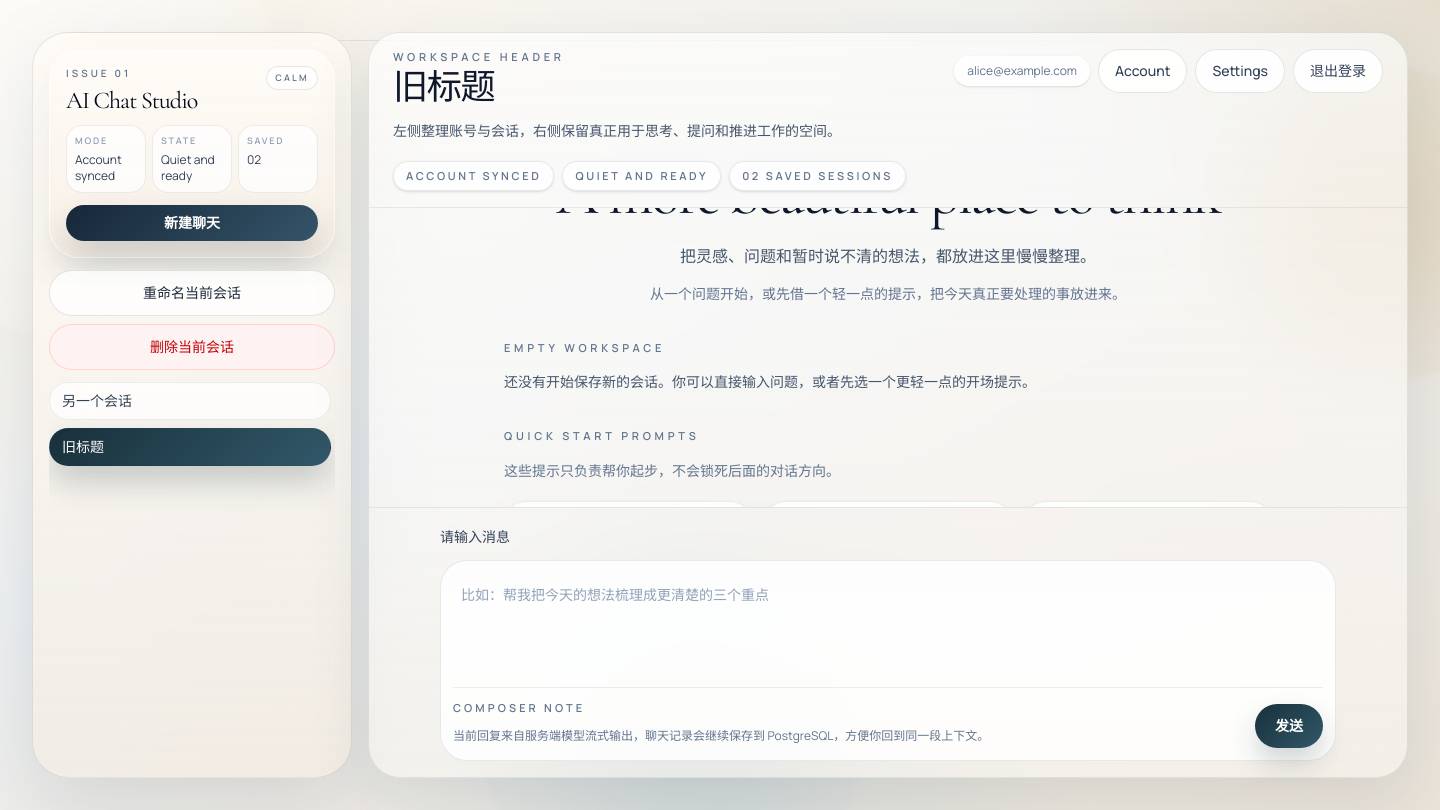
ChatApp › renames the active chat title and refreshes the sidebar list
Expected: the text "旧标题" is shown, 62,436 -> 104,456
Click the button "重命名当前会话". click: [192, 292]
box: 49,270 -> 335,316
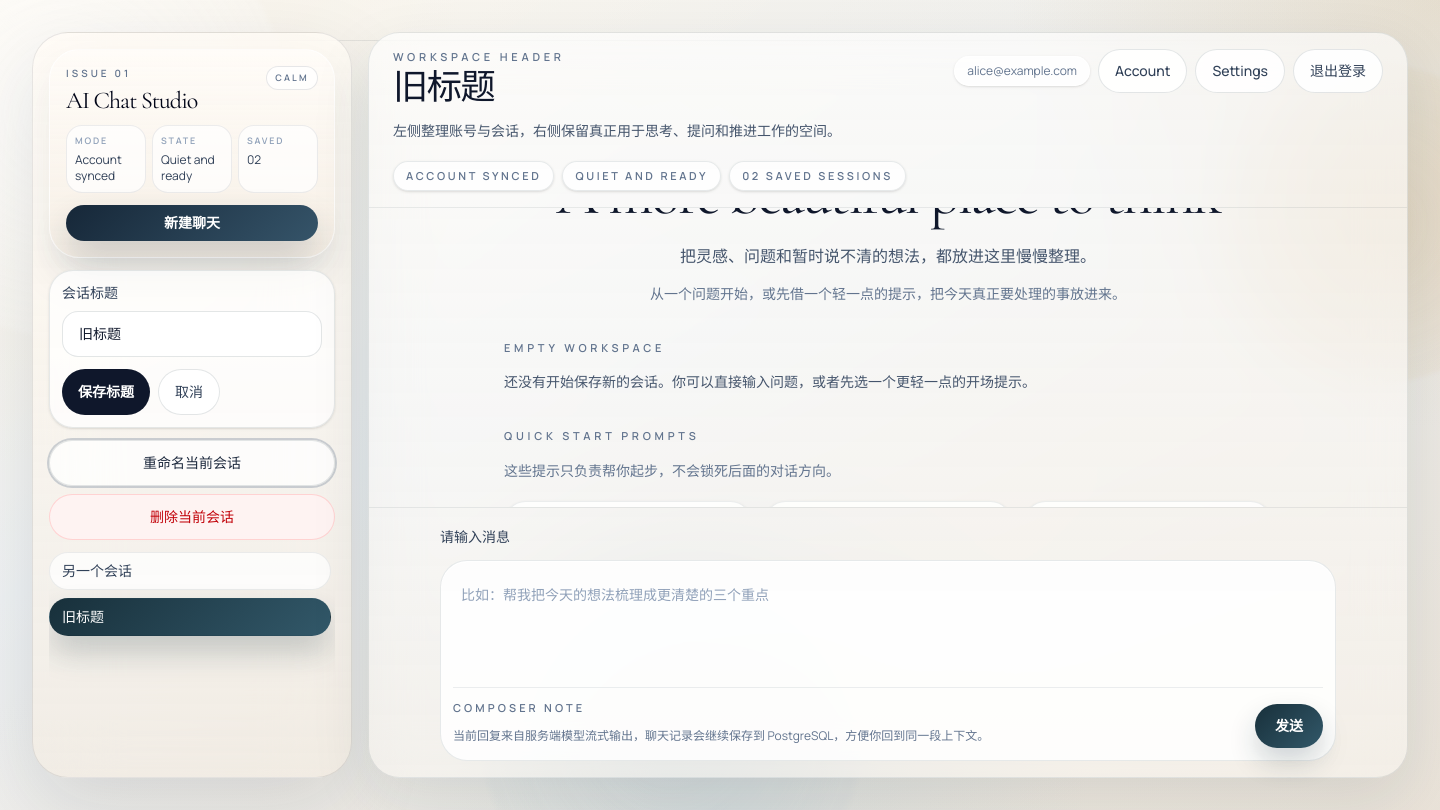
Replace the text in the field labelled "会话标题" with "新的标题". click: [192, 334]
box: 62,310 -> 322,356
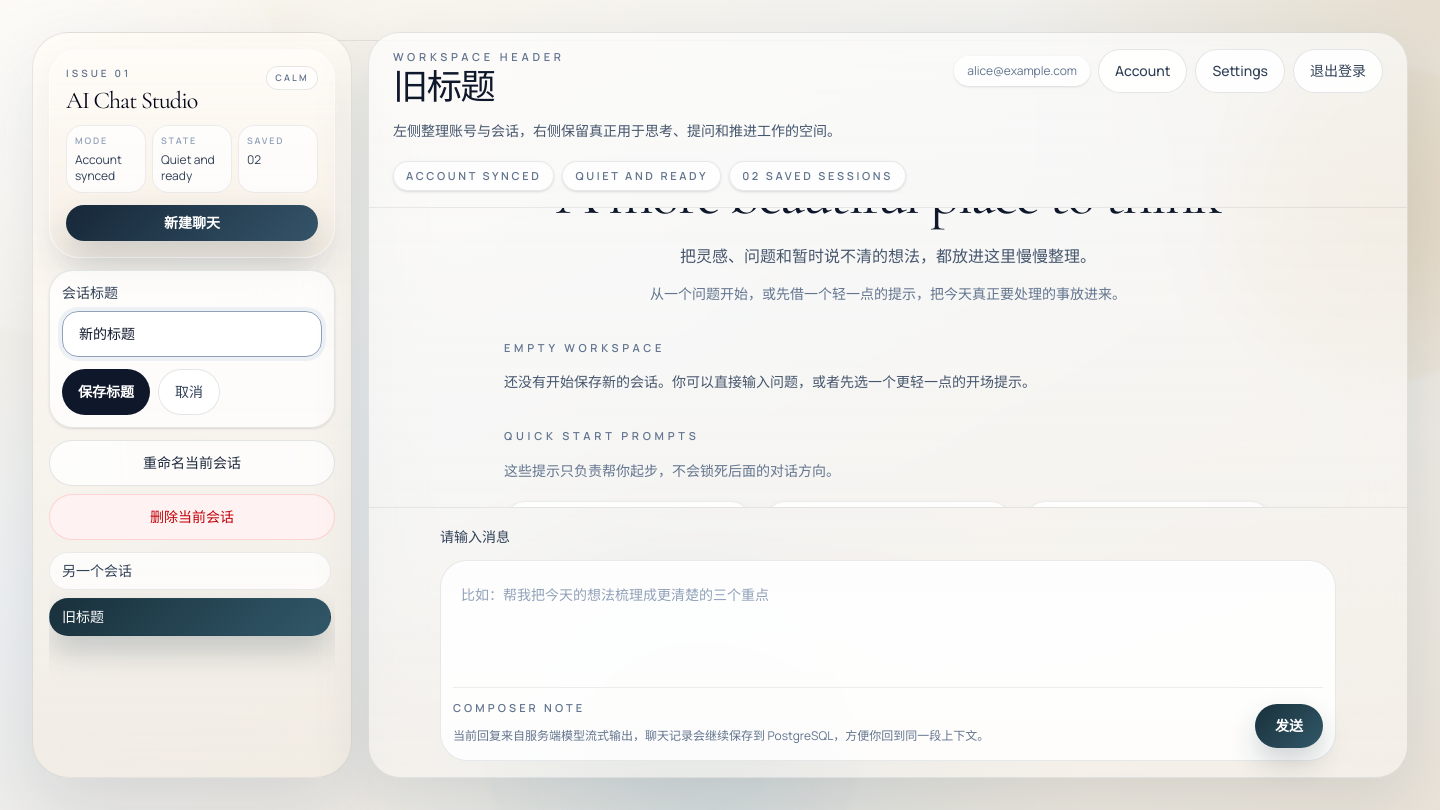
Click the button "保存标题". click: [106, 392]
box: 62,368 -> 150,414
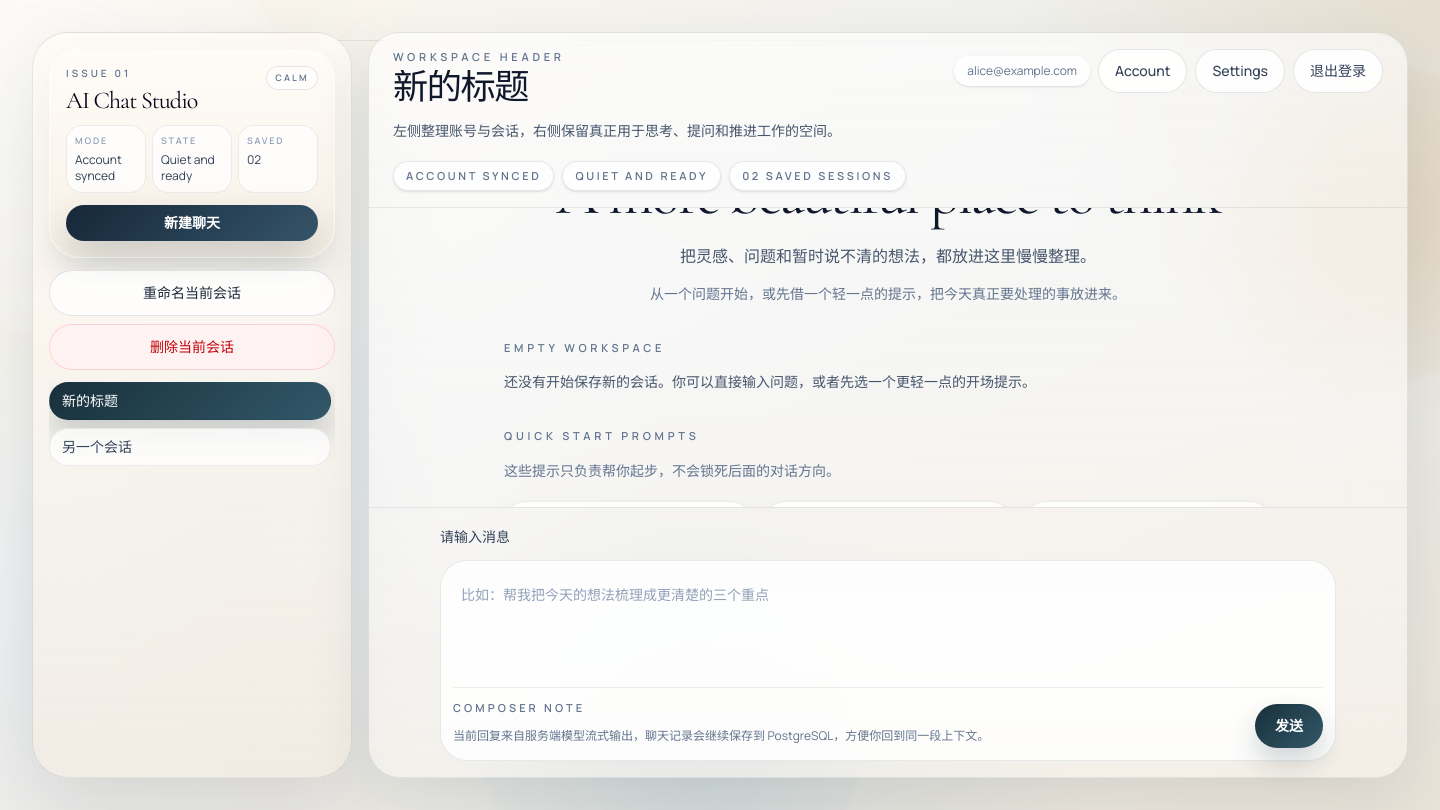
Expected: the text "新的标题" is shown, 62,390 -> 118,410
Expected: the button "旧标题" is gone
